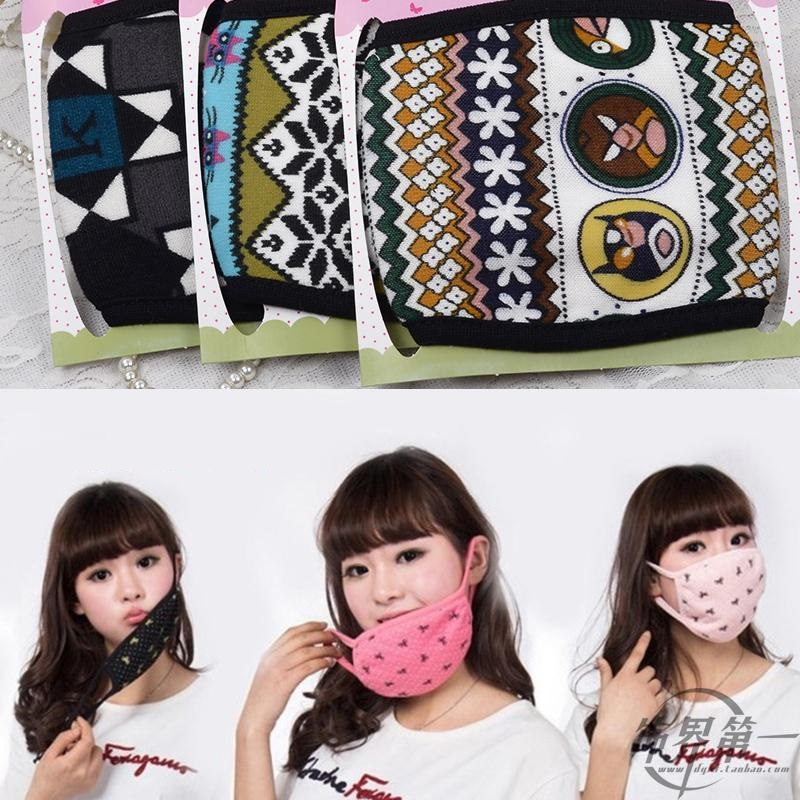face: (80, 525, 172, 642)
face_mask: (340, 507, 459, 648), (661, 519, 768, 646)
